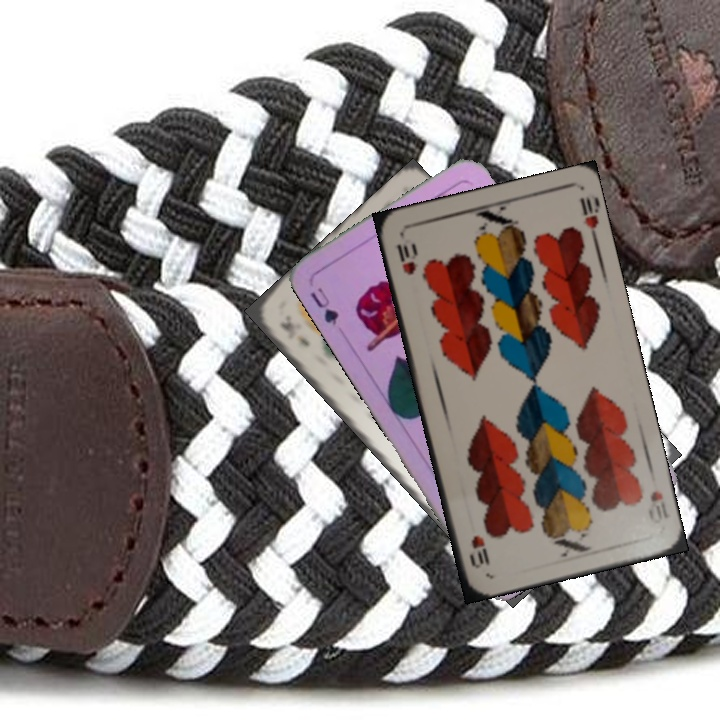EK: (276, 318, 313, 350)
GU: (306, 283, 341, 328)
H10: (644, 487, 672, 527), (392, 240, 419, 278)
